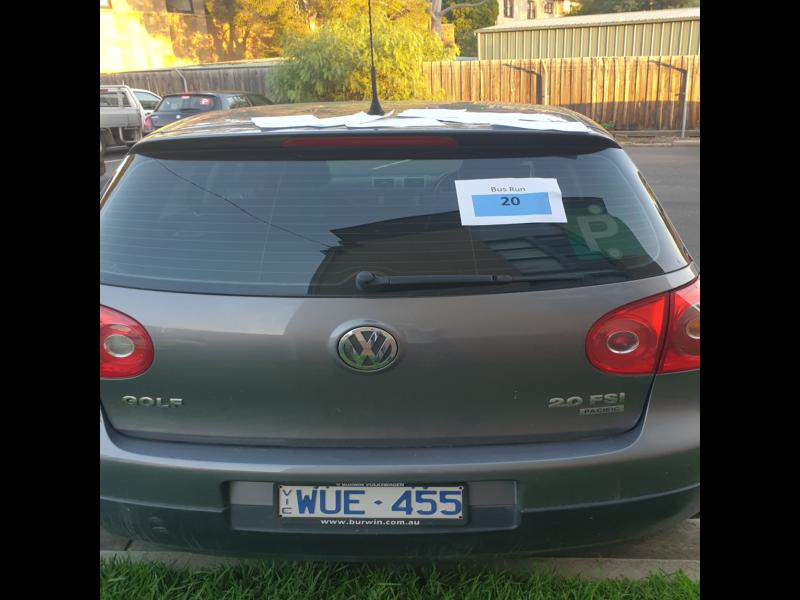BusRun: (473, 193, 553, 215)
PlateNo: (277, 480, 468, 524)
